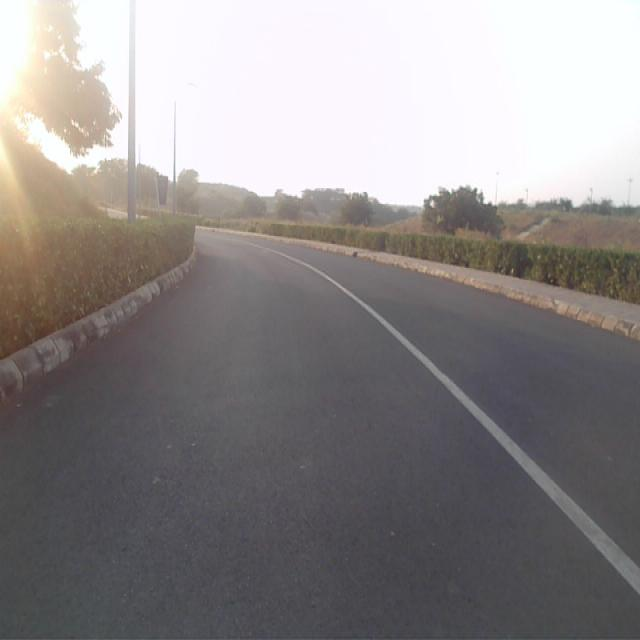lane: (0, 236, 640, 640)
